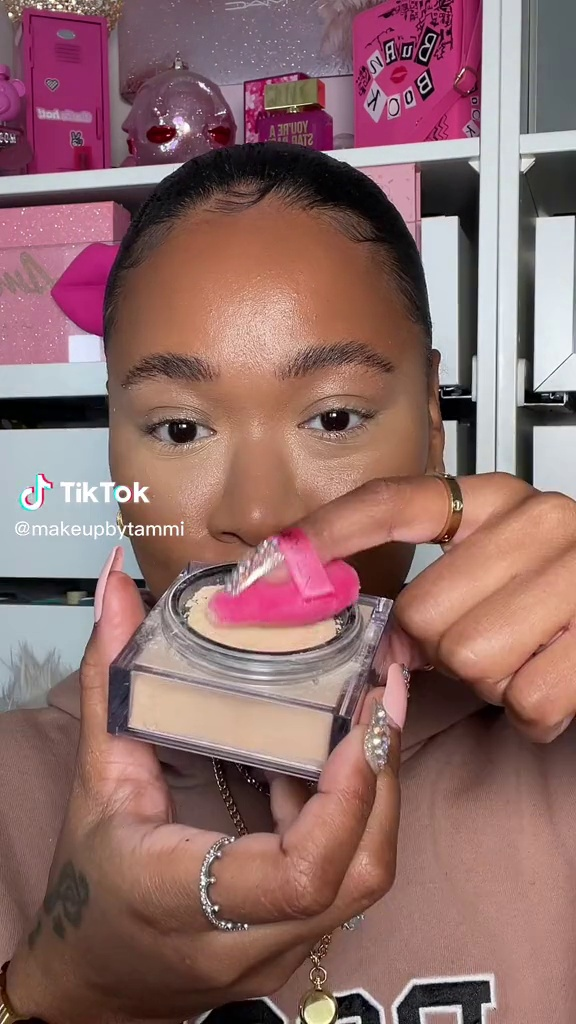train' :'yolo_data/train/images',: (98, 563, 401, 782), (209, 522, 367, 638)
